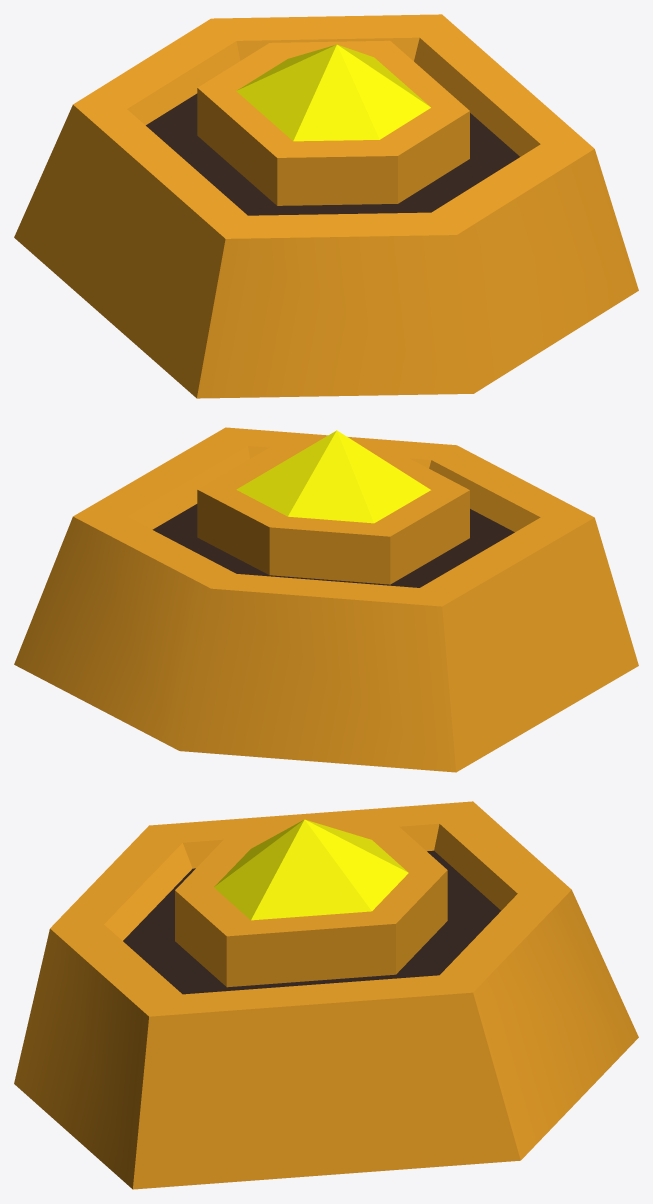
Rendered from Poleyn 03.FBX.
3 renders of one model, top to bottom at view 1: azimuth 30°, elevation 25°; view 2: azimuth 150°, elevation 25°; view 3: azimuth 270°, elevation 25°, orthographic. The views are drawn at different scales.
Visible parts, largest first — view 1: Poleyn 03; view 2: Poleyn 03; view 3: Poleyn 03.
Part boxes in pixels (left/top/right/bottom): Poleyn 03: left=14, top=14, right=638, bottom=398; Poleyn 03: left=14, top=427, right=638, bottom=772; Poleyn 03: left=14, top=801, right=638, bottom=1189.
Bounding box in the file's own units: 10.75 × 12.4 × 5.79.
1 material, 1 textured.
